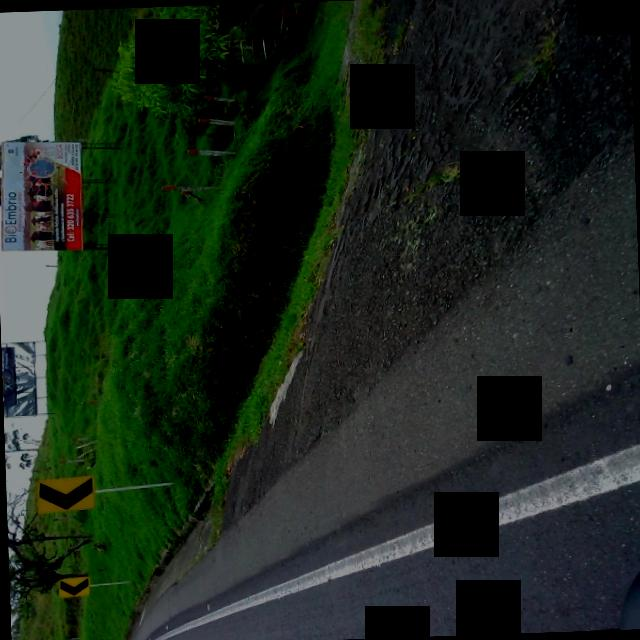DITCH: (27, 0, 640, 640), (60, 0, 640, 640), (99, 0, 640, 640)
